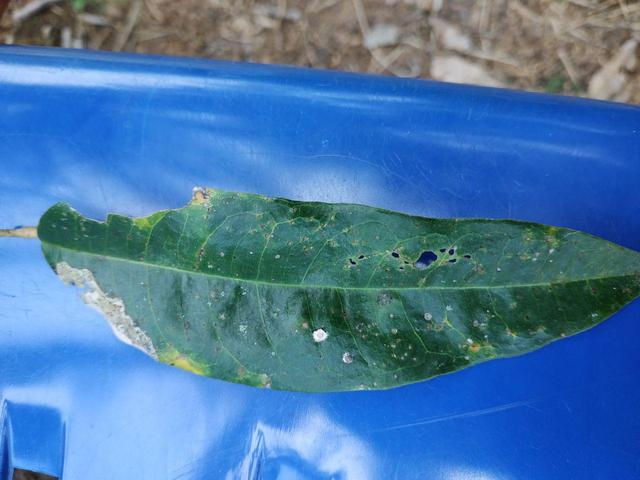blight spot: (324, 237, 514, 281)
